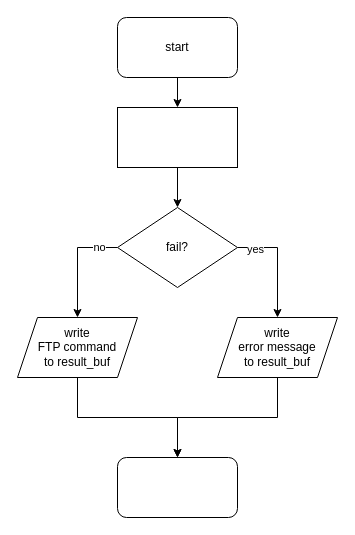
This 355x535 diagram has some shape labels left out. The shapes that lost their labels are listed below. From the top down, each one's centre as x and y in pixels, then its label:
(177,137): rename(path1, path2)
(177,487): end
